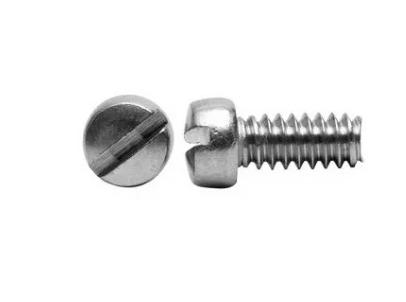screw: (81, 95, 172, 188)
